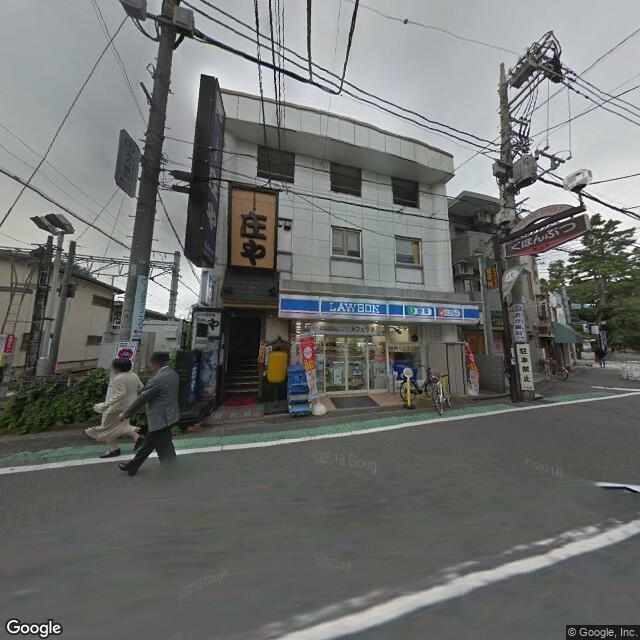lawson: (277, 283, 480, 327)
